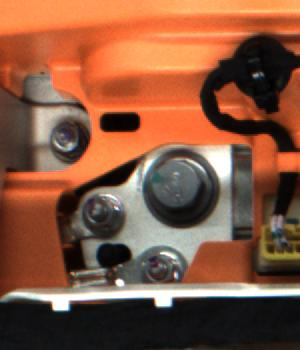nut_b: (135, 144, 226, 230)
screw_s: (78, 185, 127, 238), (42, 114, 90, 162), (142, 239, 181, 283)
